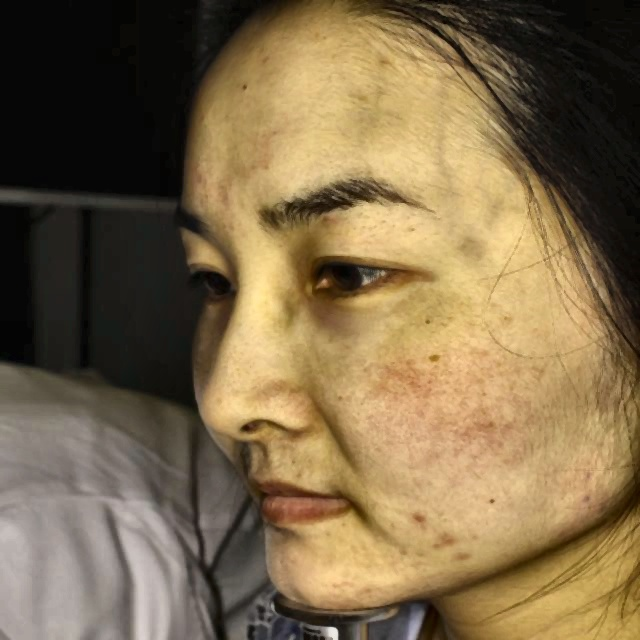comedone: (408, 508, 435, 532), (435, 536, 461, 553), (437, 551, 475, 561)
